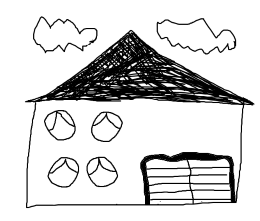clouds: (149, 13, 249, 56), (31, 8, 103, 53)
door: (134, 148, 245, 208)
open_window: (46, 150, 81, 194), (87, 105, 124, 145), (41, 106, 78, 144), (85, 149, 118, 189)
shaded_roof: (21, 28, 260, 107)
wall: (19, 96, 249, 211)
